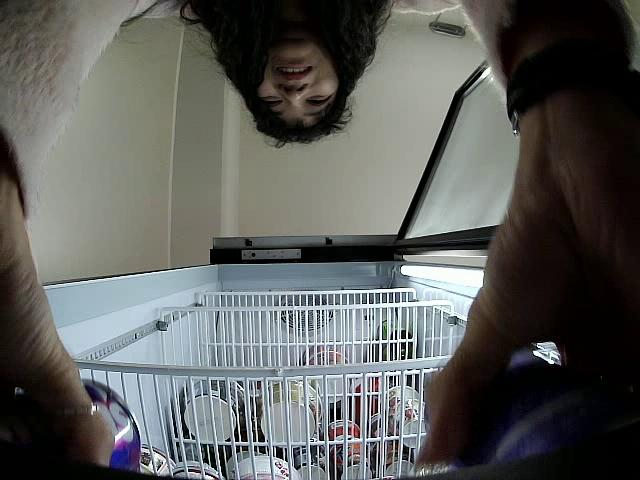00_hand: (403, 153, 640, 475)
14_welchsGrape: (454, 342, 637, 468), (66, 379, 143, 477)
